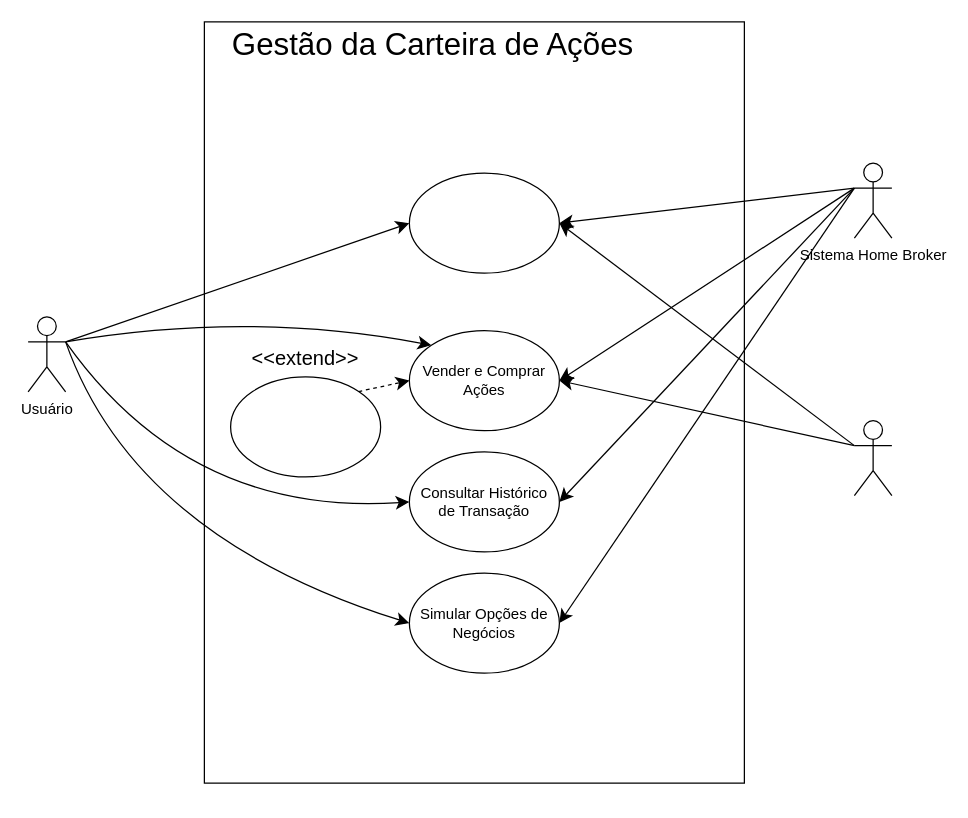
This 968x818 diagram has some shape labels left out. The centre of each missing label's shape, as x and y in pixels:
API da B3: (x=872, y=457)
Configurar Alertas de Cotações: (x=305, y=426)
Visualizar e Gerenciar a Carteira de Ações: (x=483, y=222)
